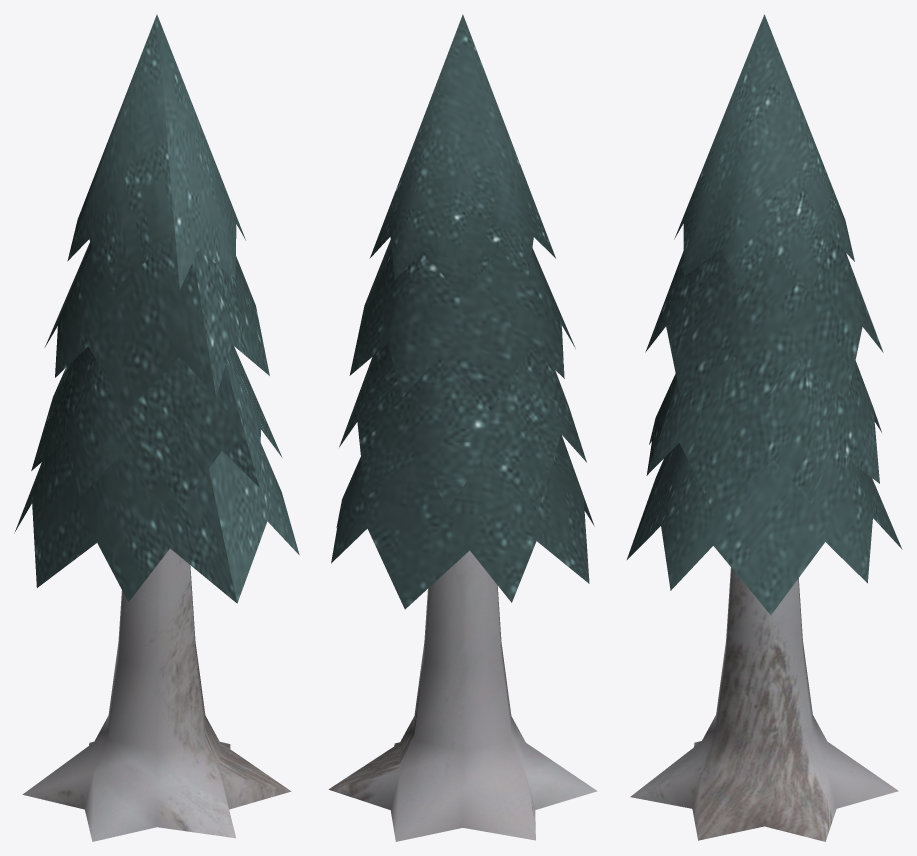
File: Tree_2_v1_1.fbx
3 renders of one model, left to right at view 1: azimuth 30°, elevation 25°; view 2: azimuth 150°, elevation 25°; view 3: azimuth 270°, elevation 25°, orthographic.
Parts seen in each view (by area): view 1: Tree_2; view 2: Tree_2; view 3: Tree_2.
Boxes of the visible parts, x1,y1,x2,y2 form: Tree_2: [14, 14, 299, 841]; Tree_2: [328, 14, 597, 841]; Tree_2: [627, 14, 902, 841].
Size of the model in its own units: 4.75 by 14.31 by 4.61.
1 material, 1 textured.
